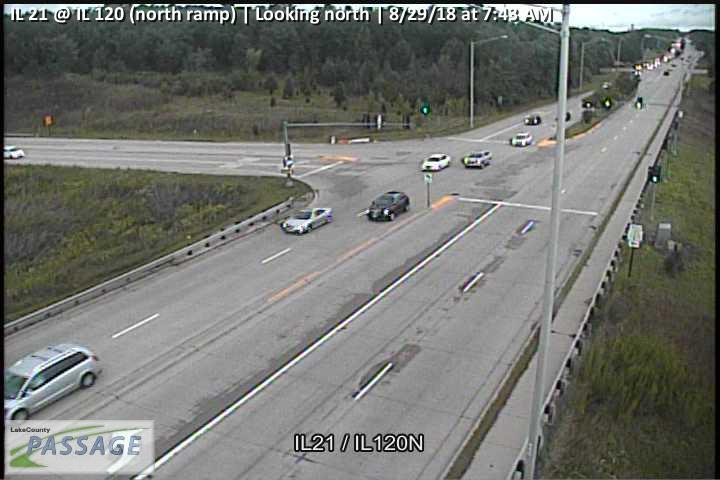SUV: (1, 340, 103, 423)
Sedan: (280, 206, 332, 235), (365, 190, 410, 222), (464, 149, 492, 169), (421, 153, 451, 171), (511, 132, 533, 147), (522, 114, 541, 125)
